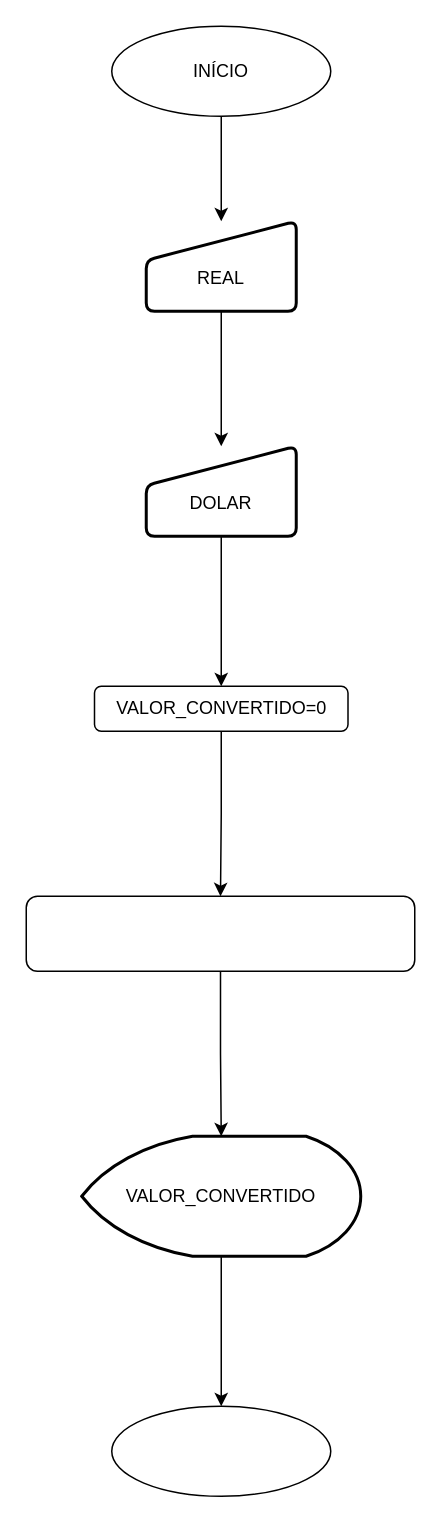
Image size: 441x1523. Some labels were removed from this diagram. The centre of each missing label's shape, as x and y in pixels:
"FIM" belongs at (220,1450).
"VALOR_CONVERTIDO = DOLAR * REAL" belongs at (220,933).
